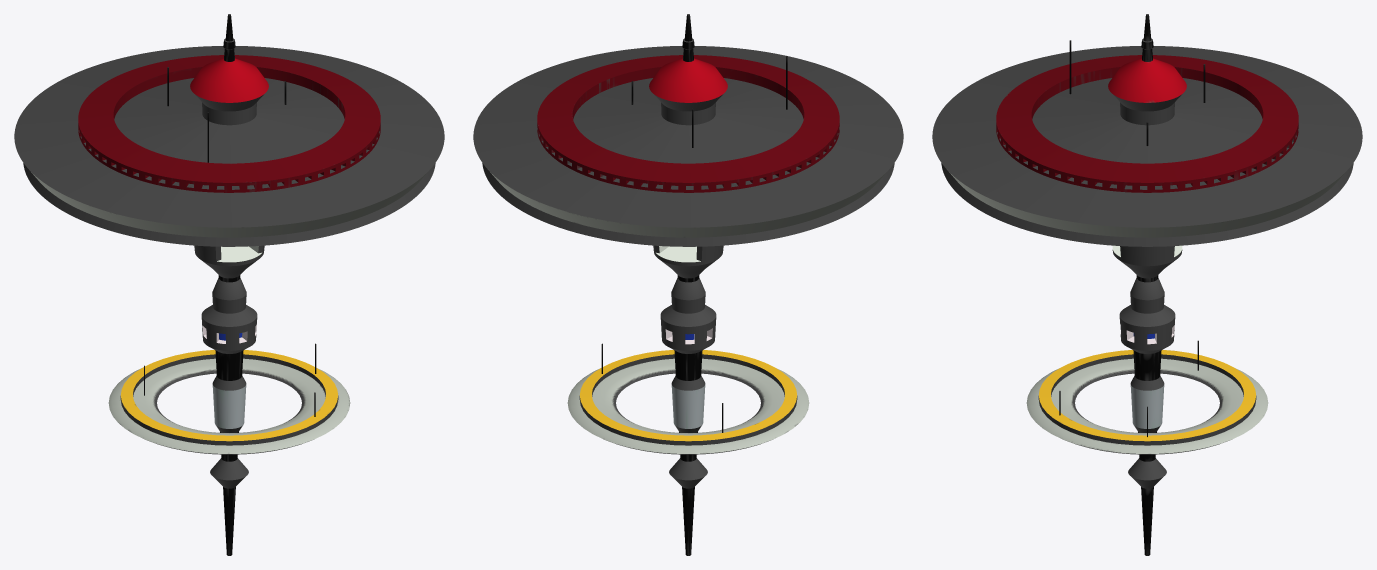
File: station.obj
The picture shows the model from 3 angles, left to right: view 1: azimuth 30°, elevation 25°; view 2: azimuth 150°, elevation 25°; view 3: azimuth 270°, elevation 25°; orthographic projection.
Parts seen in each view (by area): view 1: Cylinder.001; view 2: Cylinder.001; view 3: Cylinder.001.
Boxes of the visible parts, <box> form: Cylinder.001: <box>14,14,444,555</box>; Cylinder.001: <box>473,14,903,555</box>; Cylinder.001: <box>932,14,1362,555</box>.
Size of the model in its own units: 302 by 419 by 302.
